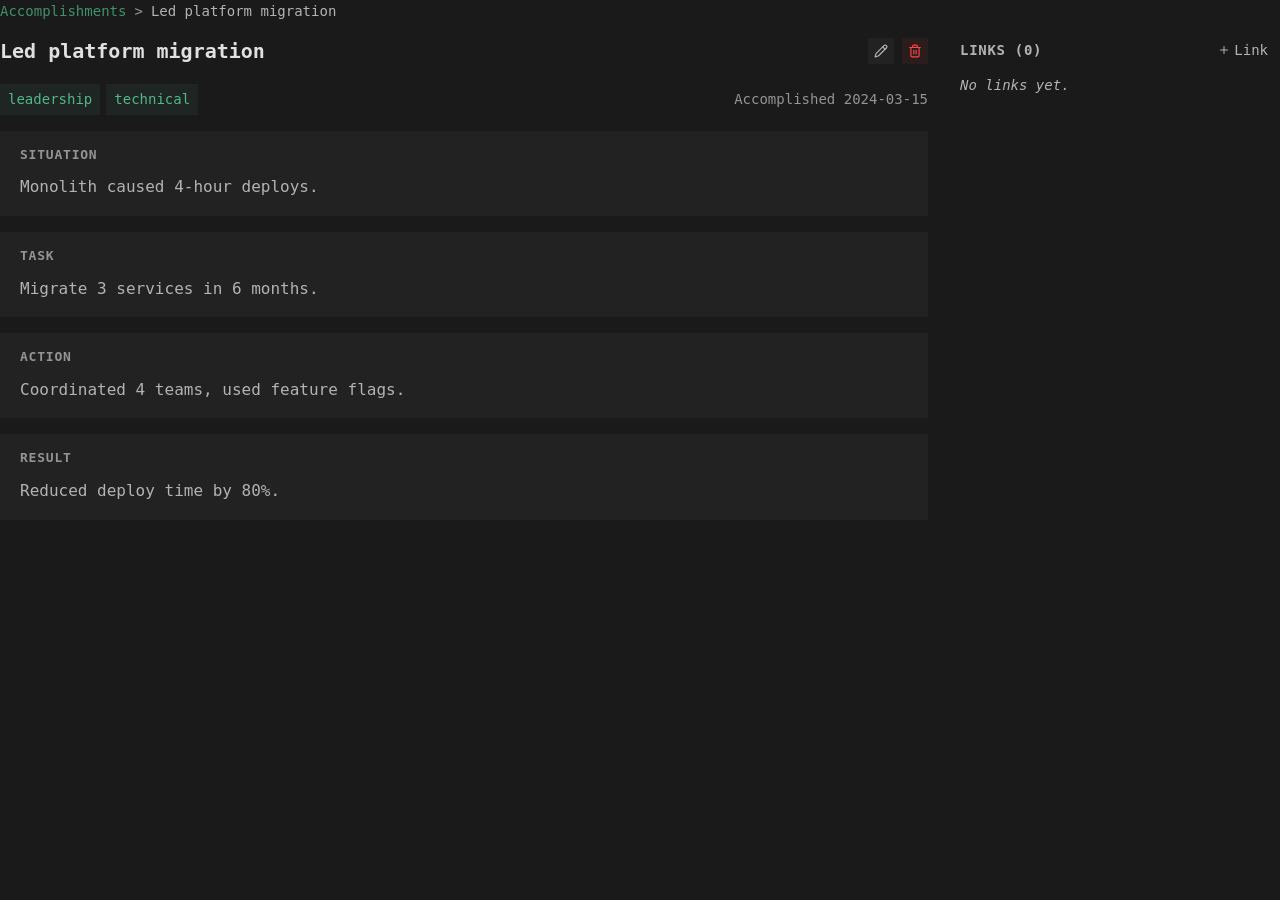
Test: AccomplishmentDetailView › delete button with confirmation navigates to /accomplishments
The width and height of the screenshot is (1280, 900).
Check: the text "Led platform migration" is shown, box top-left (151, 0), bottom-right (336, 22)
Click the button named "Delete" at (915,51), box top-left (902, 38), bottom-right (928, 64)
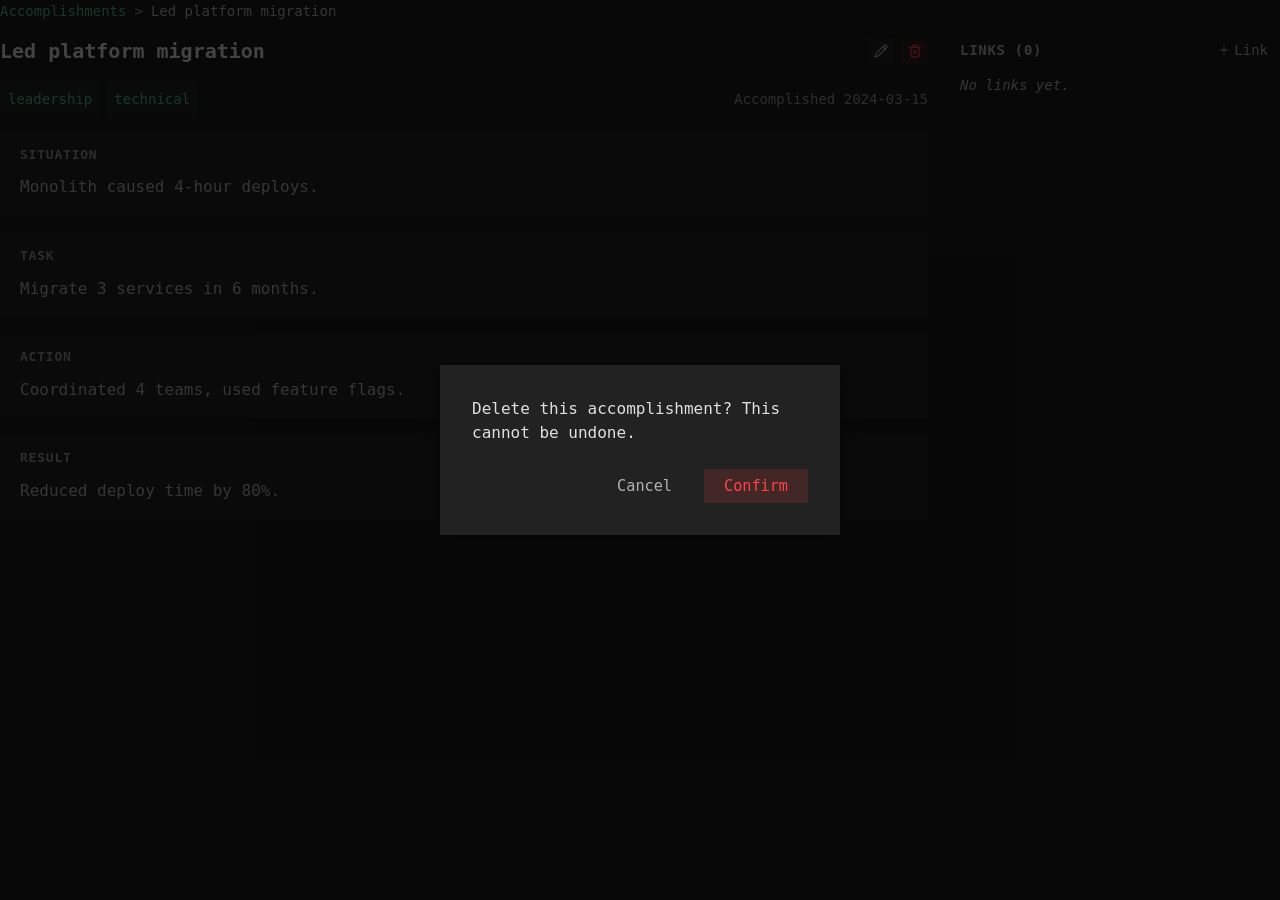
Check: the text "Delete this accomplishment? This cannot be undone." is shown, box top-left (472, 397), bottom-right (808, 445)
Click the button "Confirm" at (756,486), box top-left (704, 469), bottom-right (808, 503)
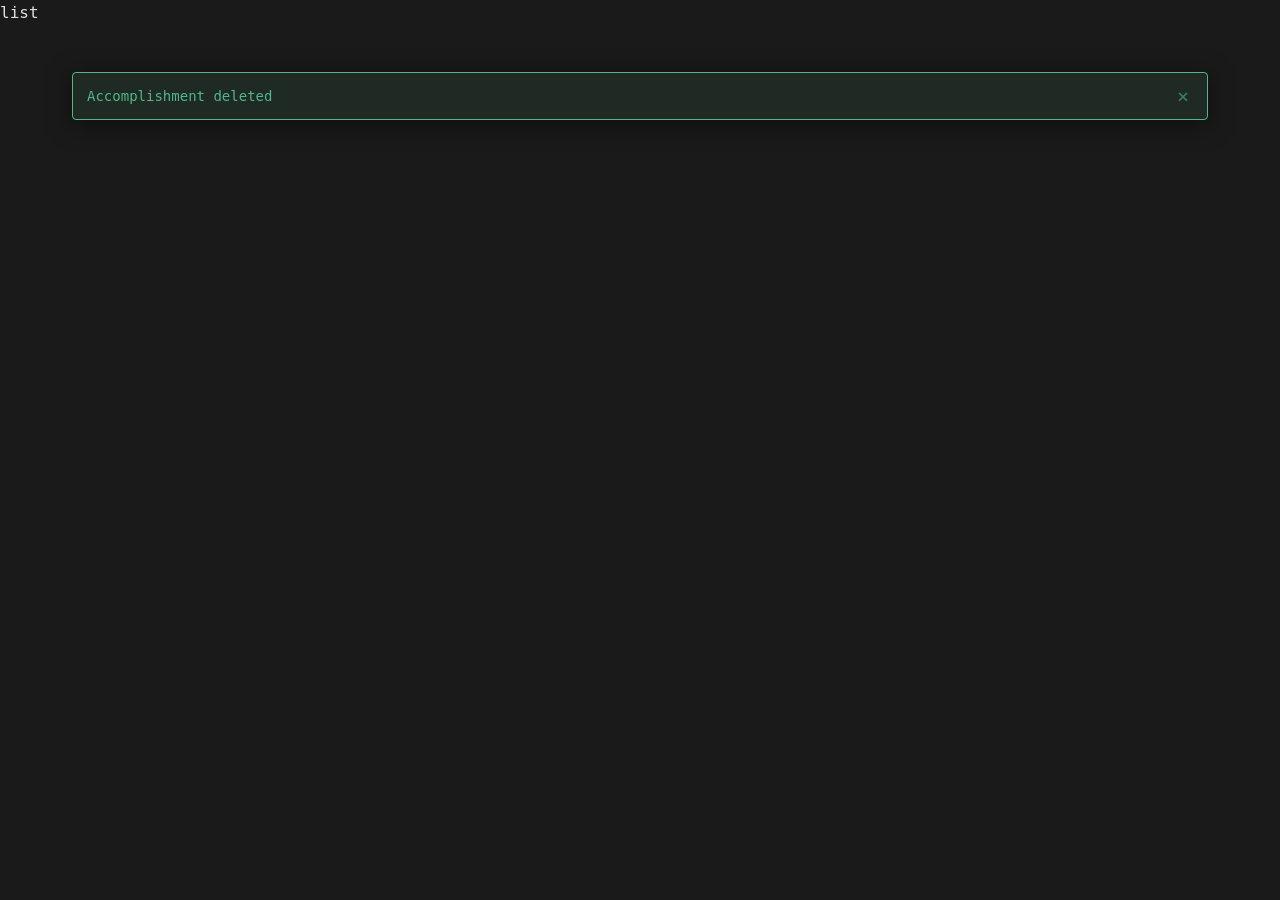
Check: the text "list" is shown, box top-left (0, 3), bottom-right (38, 22)
